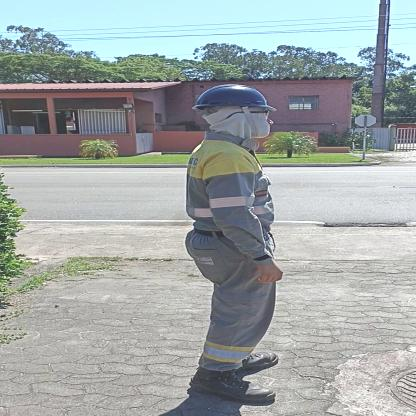Balaclava: (211, 107, 273, 143)
Capacete: (204, 82, 268, 110)
